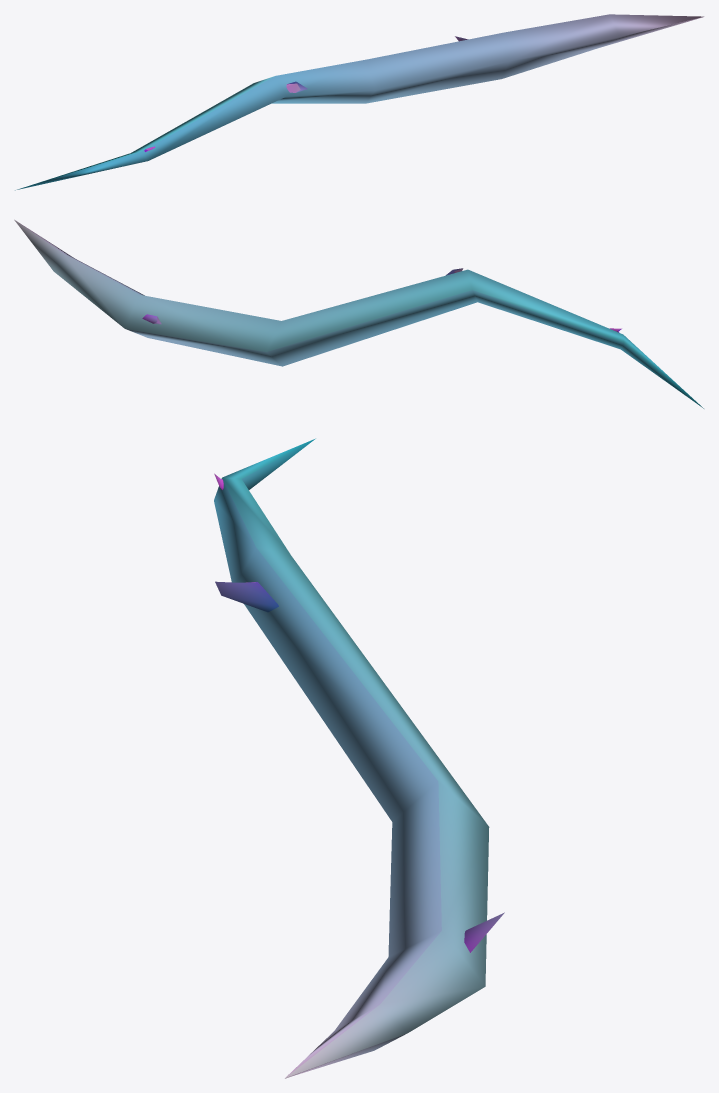
The picture shows the model from 3 angles, top to bottom: view 1: azimuth 30°, elevation 25°; view 2: azimuth 150°, elevation 25°; view 3: azimuth 270°, elevation 25°; orthographic projection. The views are drawn at different scales.
Parts seen in each view (by area): view 1: SM_VFX_Beetle_LowPoly_LOD0; view 2: SM_VFX_Beetle_LowPoly_LOD0; view 3: SM_VFX_Beetle_LowPoly_LOD0.
Part boxes in pixels (<box>): SM_VFX_Beetle_LowPoly_LOD0: <box>15,14,704,190</box>; SM_VFX_Beetle_LowPoly_LOD0: <box>14,219,703,408</box>; SM_VFX_Beetle_LowPoly_LOD0: <box>214,438,504,1078</box>.
Size of the model in its own units: 1.21 by 0.1711 by 0.2241.
